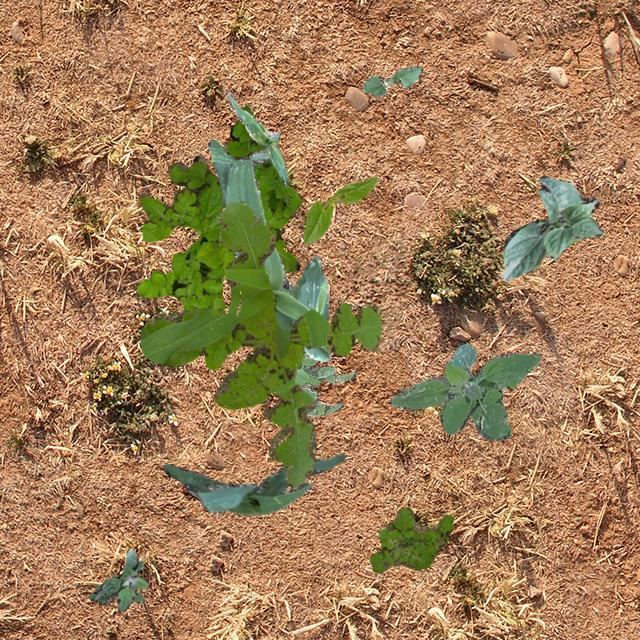crop: (206, 138, 330, 360), (162, 452, 344, 514), (501, 174, 604, 280), (226, 90, 288, 186), (303, 176, 377, 244), (361, 64, 422, 96)
weed: (140, 202, 380, 488), (136, 103, 300, 314), (388, 342, 540, 440), (368, 506, 452, 572), (86, 548, 148, 610), (292, 356, 356, 416)
